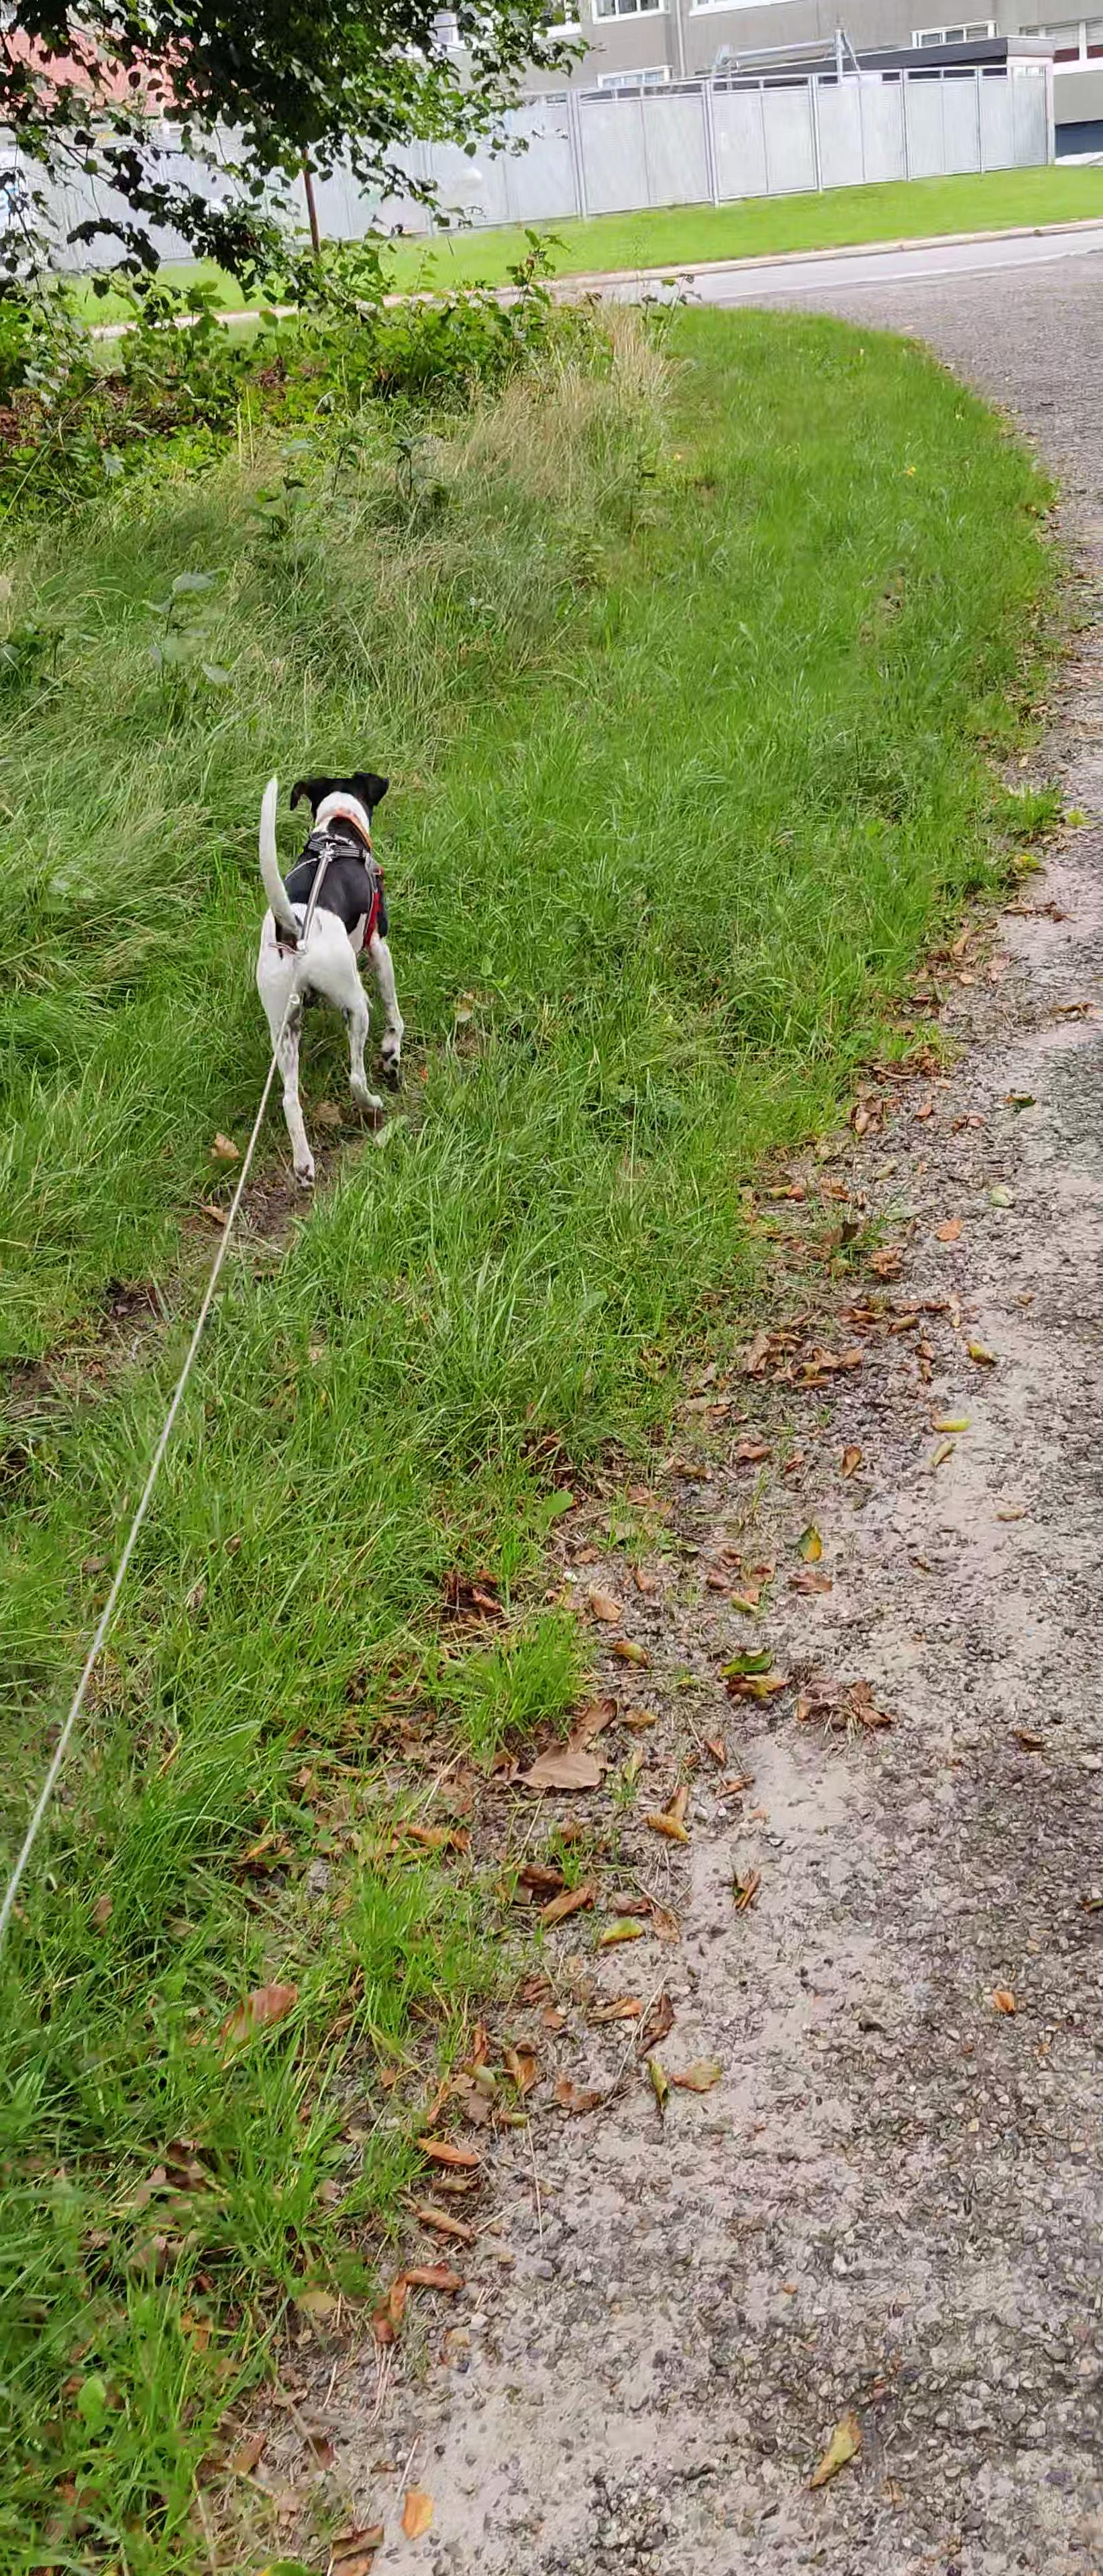Dog: (237, 761, 427, 1201)
